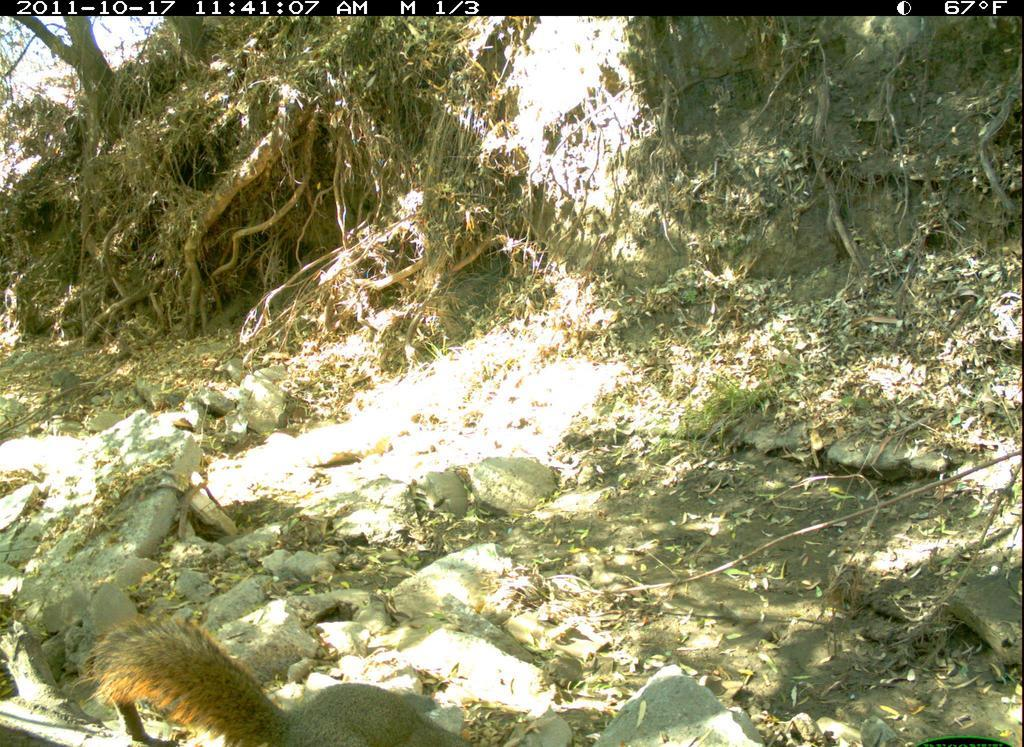squirrel: (100, 597, 487, 747)
